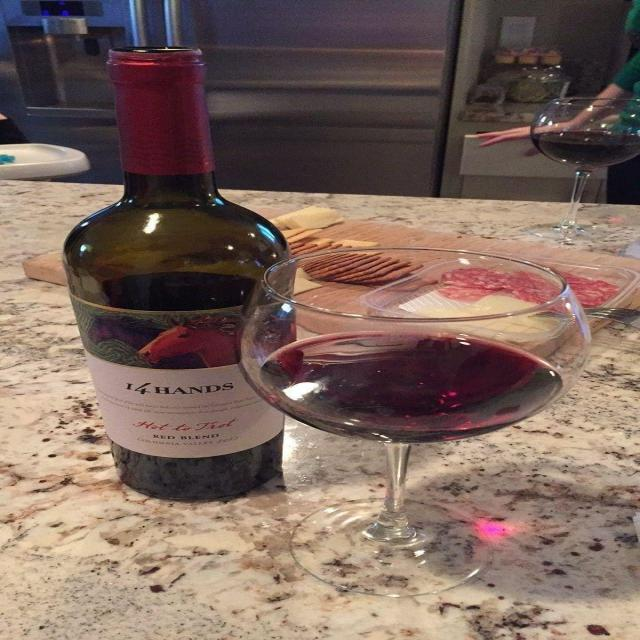bottle-glass: (60, 39, 298, 499)
glass-wine: (235, 248, 593, 592), (521, 95, 639, 245)
